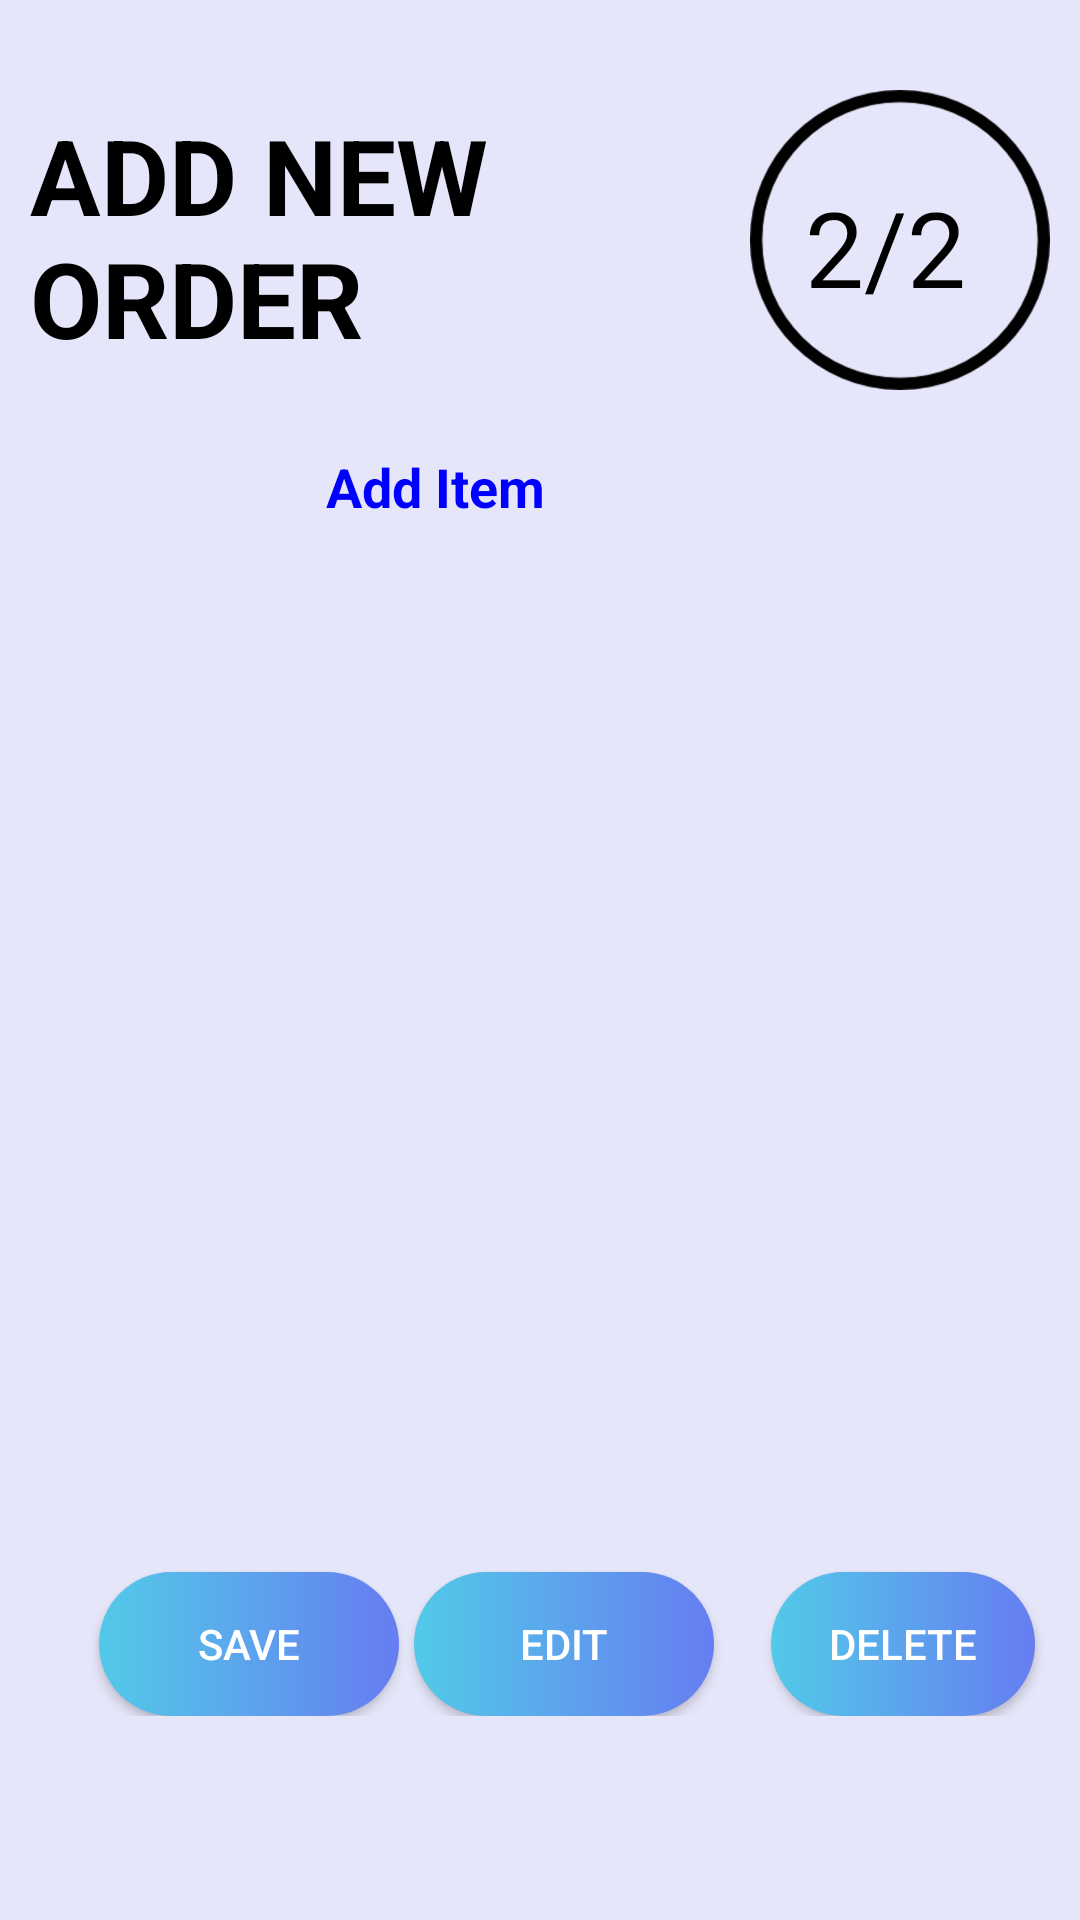

Named icons in this screenshot (1080 × 1920) and their centers, point (x, y):
circle: point (900, 240)
